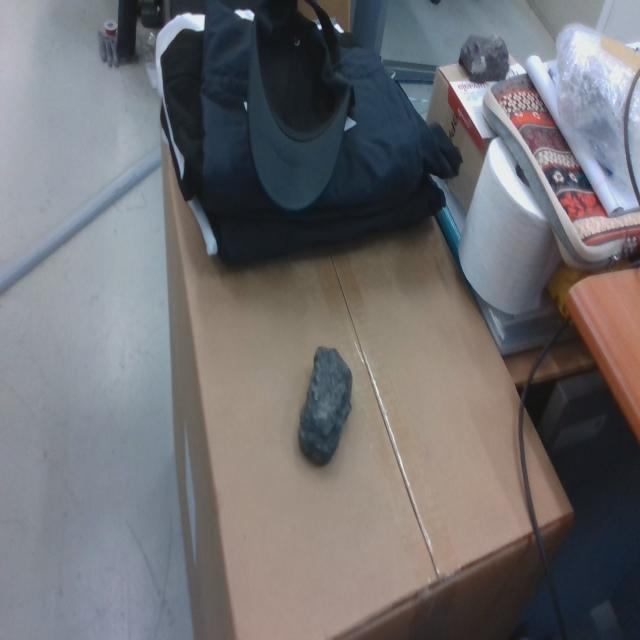stone: (298, 347, 352, 467)
